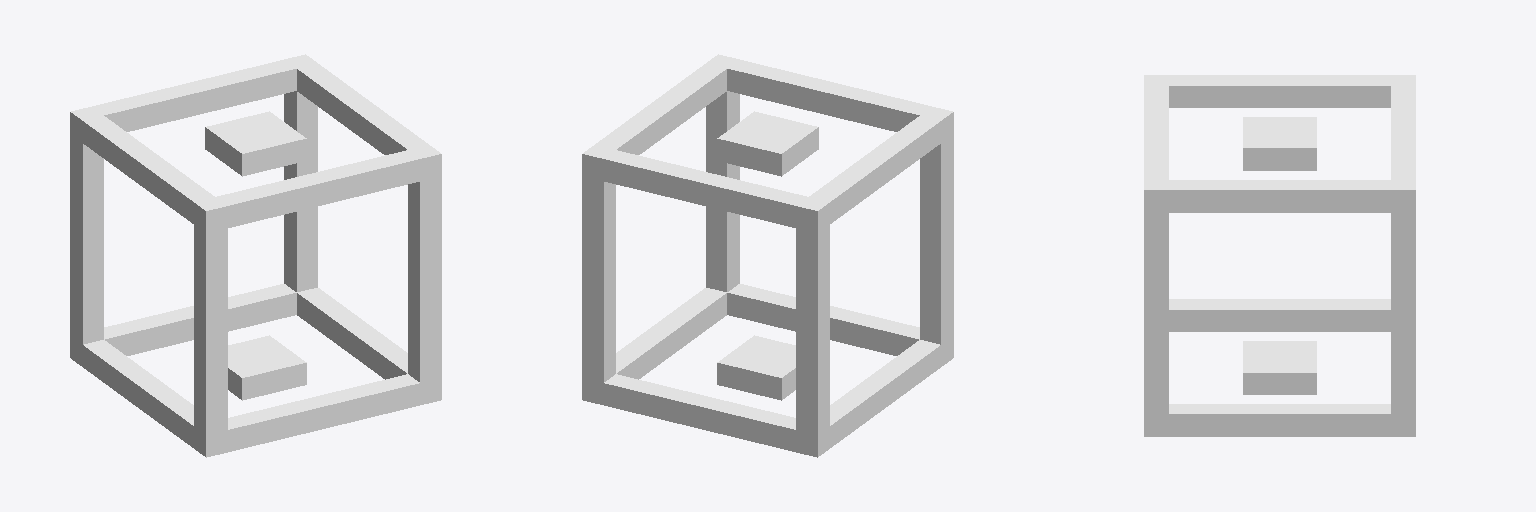
File: level_02.obj
3 views of the same model, side by side, from view 1: azimuth 30°, elevation 25°; view 2: azimuth 150°, elevation 25°; view 3: azimuth 270°, elevation 25° (orthographic).
Visible parts, largest first — view 1: object 1; view 2: object 1; view 3: object 1.
Boxes of the visible parts, <box> form: object 1: <box>70,54,441,457</box>; object 1: <box>582,54,953,457</box>; object 1: <box>1144,75,1415,436</box>.
Size of the model in its own units: 1.1 by 1.1 by 1.1.